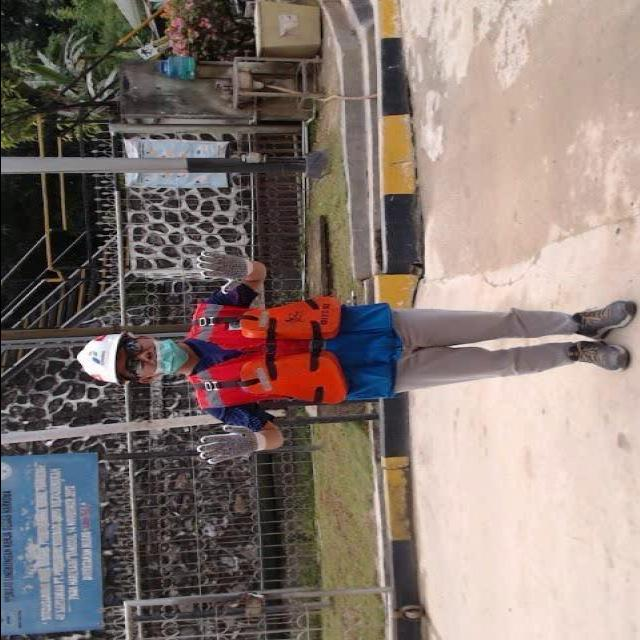helmet: (74, 330, 128, 394)
jacket: (182, 292, 354, 430)
